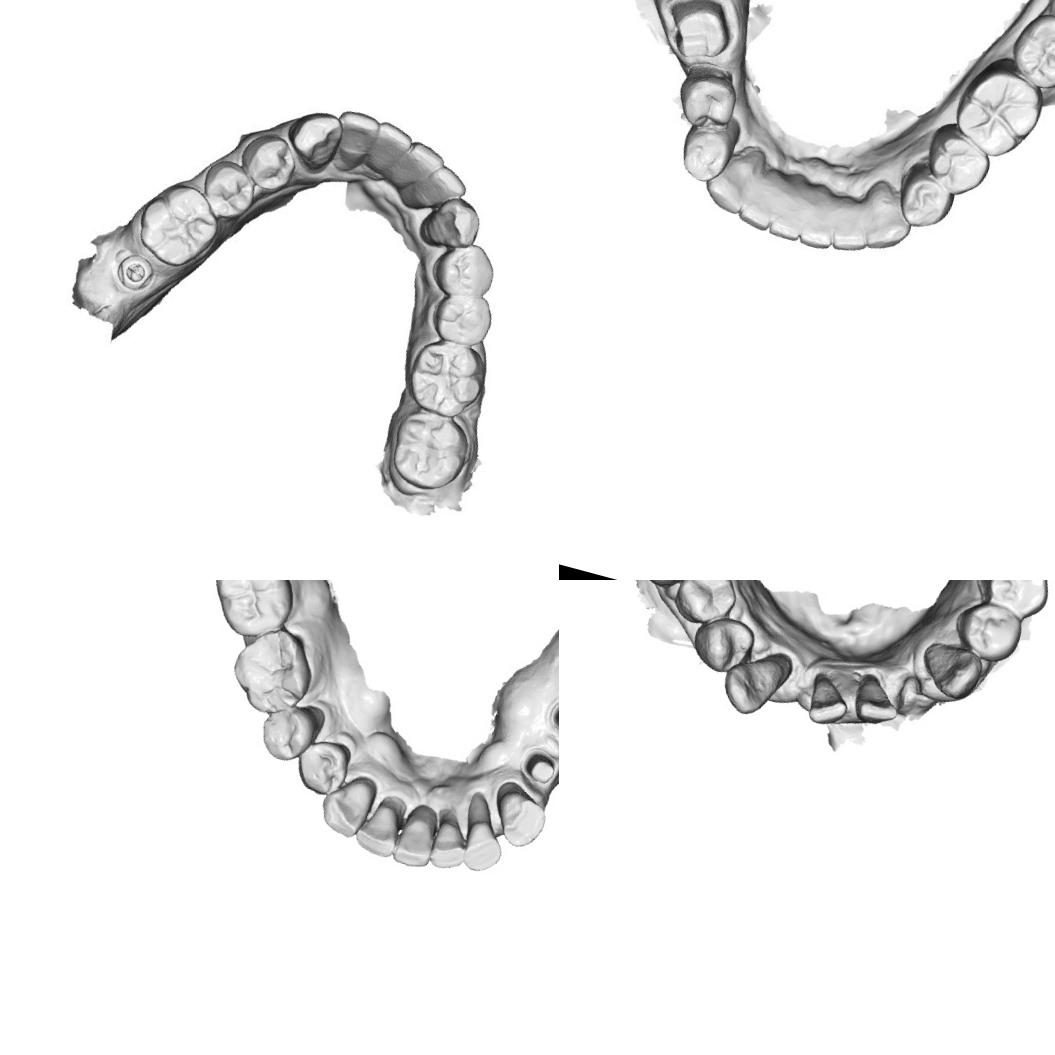abutment: (515, 744, 559, 790), (544, 695, 559, 741)
canine: (718, 643, 792, 724), (853, 175, 921, 258), (913, 635, 988, 705), (310, 770, 380, 844), (416, 187, 488, 257), (282, 102, 348, 176), (700, 139, 763, 216), (488, 783, 554, 854)
crown: (654, 0, 739, 70)
implant: (104, 244, 162, 298)
incisor: (824, 190, 878, 258), (398, 160, 461, 218), (456, 814, 512, 878), (387, 810, 442, 873), (734, 168, 786, 234), (351, 797, 405, 860), (766, 176, 816, 244), (394, 138, 442, 207), (329, 110, 379, 174), (847, 671, 904, 727), (796, 190, 844, 254), (424, 816, 475, 874), (364, 121, 410, 183), (802, 671, 852, 727)
molar: (946, 53, 1050, 166), (221, 616, 327, 724), (128, 172, 228, 274), (381, 404, 477, 498), (398, 330, 490, 423), (198, 580, 305, 649), (1002, 3, 1055, 99)
premolar: (916, 120, 997, 202), (956, 598, 1033, 671), (888, 162, 962, 236), (671, 59, 741, 136), (426, 233, 500, 305), (193, 152, 264, 225), (686, 607, 756, 679), (233, 125, 303, 196), (253, 697, 322, 769), (672, 113, 738, 188), (288, 732, 357, 802), (427, 284, 500, 350), (676, 580, 743, 627), (974, 580, 1052, 619)
